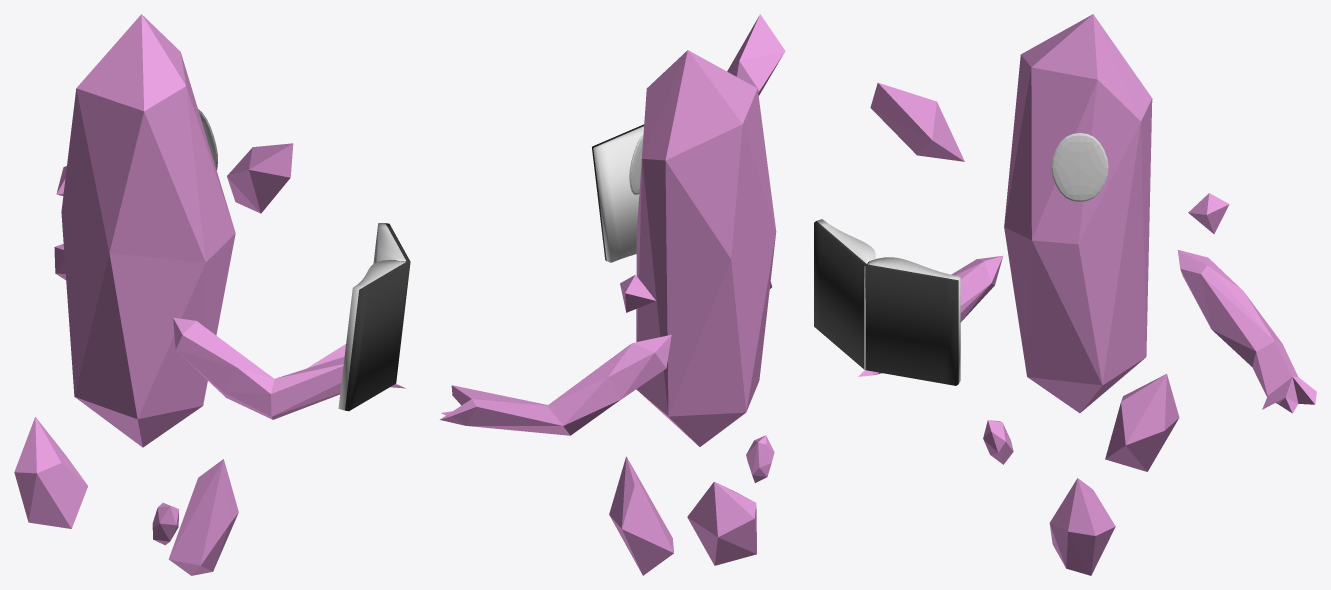
File: ルーン.fbx
3 views of the same model, side by side, from view 1: azimuth 30°, elevation 25°; view 2: azimuth 150°, elevation 25°; view 3: azimuth 270°, elevation 25° (orthographic). The views are drawn at different scales.
Parts seen in each view (by area): view 1: ICO球, ベジエカーブ.002, ICO球.007, ICO球.001, ICO球.003, ICO球.004, ICO球.002; view 2: ICO球, ICO球.006, ベジエカーブ.002, ICO球.001, ICO球.003, ICO球.004, ICO球.002, ICO球.005, 円; view 3: ICO球, ベジエカーブ.002, ICO球.006, ICO球.001, ICO球.003, ICO球.004, 円, ICO球.007, ICO球.002, ICO球.005.
Part boxes in pixels (left/top/right/bottom): ICO球: left=61, top=14, right=235, bottom=447; ベジエカーブ.002: left=338, top=223, right=410, bottom=411; ICO球.007: left=173, top=317, right=406, bottom=419; ICO球.001: left=14, top=417, right=87, bottom=528; ICO球.003: left=168, top=459, right=238, bottom=575; ICO球.004: left=227, top=143, right=293, bottom=213; ICO球.002: left=152, top=502, right=178, bottom=545; ICO球: left=636, top=50, right=776, bottom=446; ICO球.006: left=440, top=334, right=671, bottom=435; ベジエカーブ.002: left=592, top=124, right=644, bottom=262; ICO球.001: left=687, top=481, right=756, bottom=565; ICO球.003: left=609, top=456, right=673, bottom=575; ICO球.004: left=727, top=14, right=785, bottom=95; ICO球.002: left=746, top=435, right=774, bottom=482; ICO球.005: left=620, top=274, right=655, bottom=312; 円: left=629, top=133, right=643, bottom=194; ICO球: left=1004, top=14, right=1152, bottom=413; ベジエカーブ.002: left=814, top=219, right=960, bottom=385; ICO球.006: left=1177, top=250, right=1316, bottom=413; ICO球.001: left=1105, top=374, right=1179, bottom=471; ICO球.003: left=1049, top=478, right=1115, bottom=575; ICO球.004: left=870, top=82, right=964, bottom=161; 円: left=1051, top=133, right=1108, bottom=201; ICO球.007: left=858, top=256, right=1002, bottom=376; ICO球.002: left=983, top=420, right=1013, bottom=464; ICO球.005: left=1188, top=193, right=1229, bottom=233.
Bounding box in the file's own units: 403 × 804 × 679.
